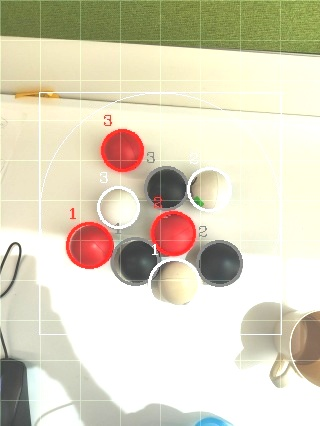Pelota blanca: (145, 257, 201, 307), (287, 308, 320, 387), (185, 166, 233, 211), (95, 185, 139, 230), (233, 334, 278, 371), (239, 300, 280, 336), (31, 401, 84, 425), (268, 355, 293, 389), (191, 414, 235, 425)
Pelota negra: (108, 236, 158, 286), (196, 238, 243, 288), (143, 164, 187, 211)
Pelota roja: (63, 220, 113, 270), (98, 126, 145, 174), (148, 209, 195, 256)
